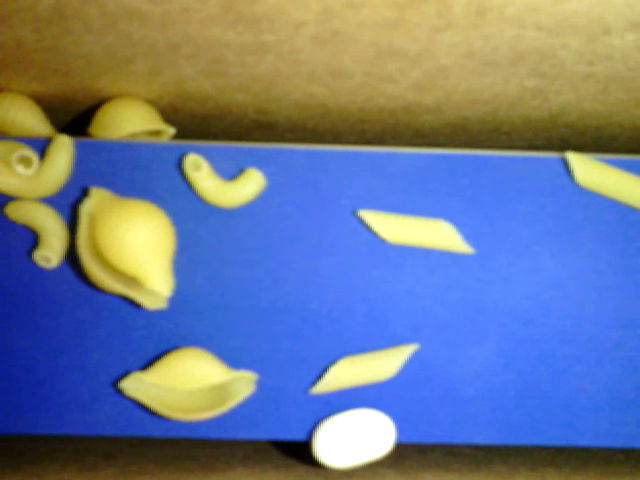elbow: (1, 130, 75, 197), (184, 150, 266, 207), (7, 195, 71, 262), (1, 140, 44, 175)
penne: (311, 341, 422, 390), (356, 208, 472, 254), (560, 149, 639, 212)
shell: (74, 191, 172, 312), (120, 341, 259, 419), (92, 184, 173, 296), (89, 95, 179, 142), (1, 89, 63, 134)
